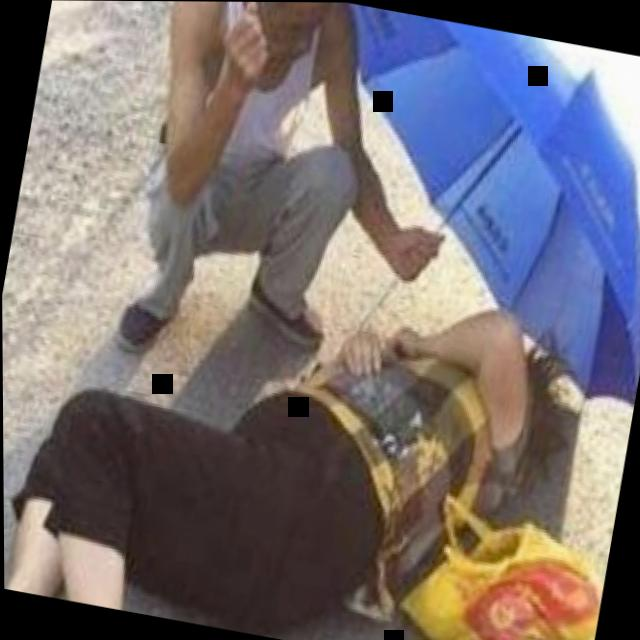Fall-Detected: (1, 214, 640, 640)
